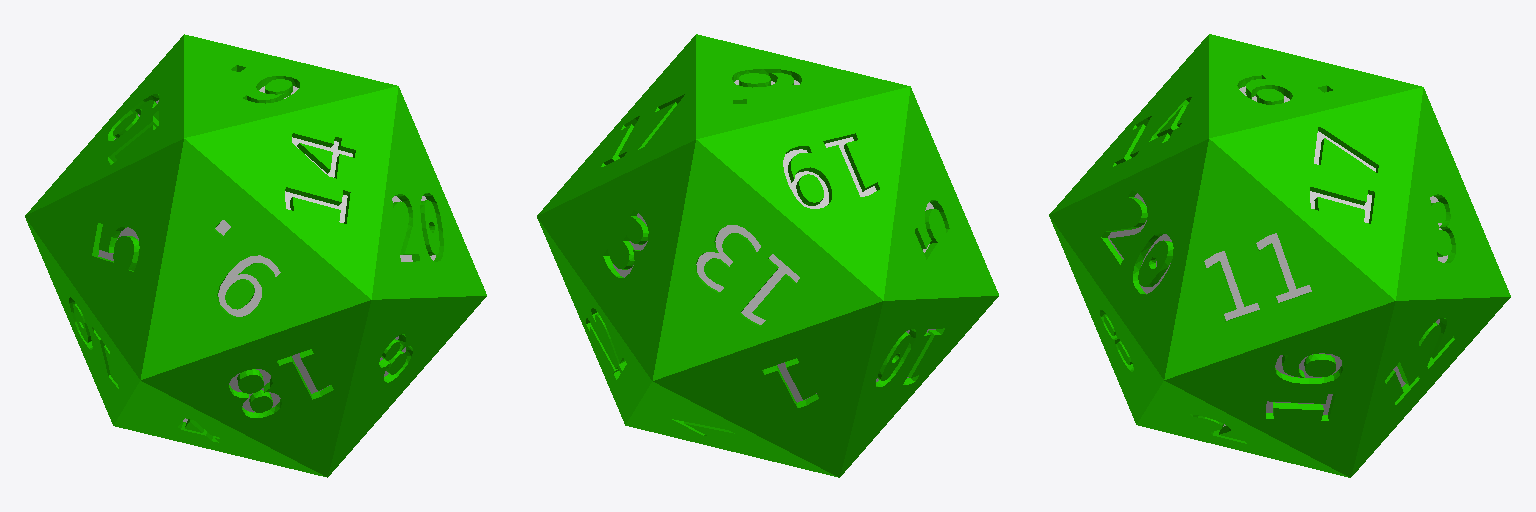
The model's file is Dice20.obj.
3 renders of one model, left to right at view 1: azimuth 30°, elevation 25°; view 2: azimuth 150°, elevation 25°; view 3: azimuth 270°, elevation 25°, orthographic.
Visible parts, largest first — view 1: D20_19mm; view 2: D20_19mm; view 3: D20_19mm.
Part boxes in pixels (x1,y1,x2,y2): D20_19mm: (25,34,486,477); D20_19mm: (537,34,998,477); D20_19mm: (1049,34,1510,477).
Bounding box in the file's own units: 2.03 × 1.9 × 2.34.